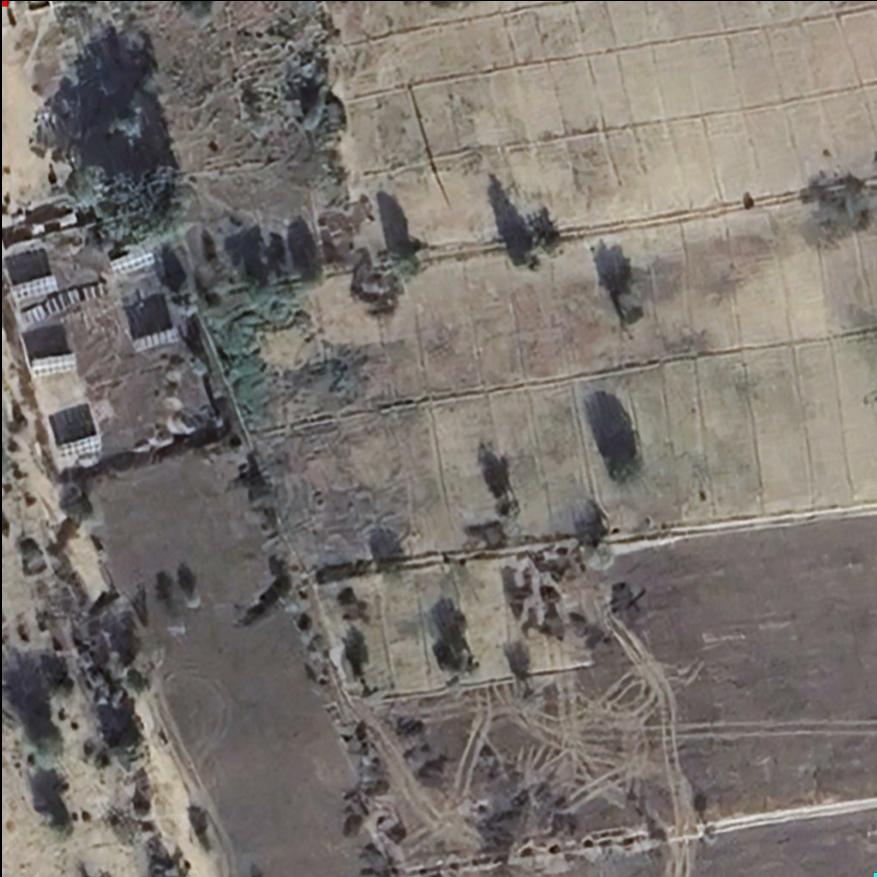Solarpanel: (25, 351, 80, 383), (104, 247, 159, 279), (50, 431, 105, 461), (128, 324, 178, 357), (8, 273, 62, 303)
